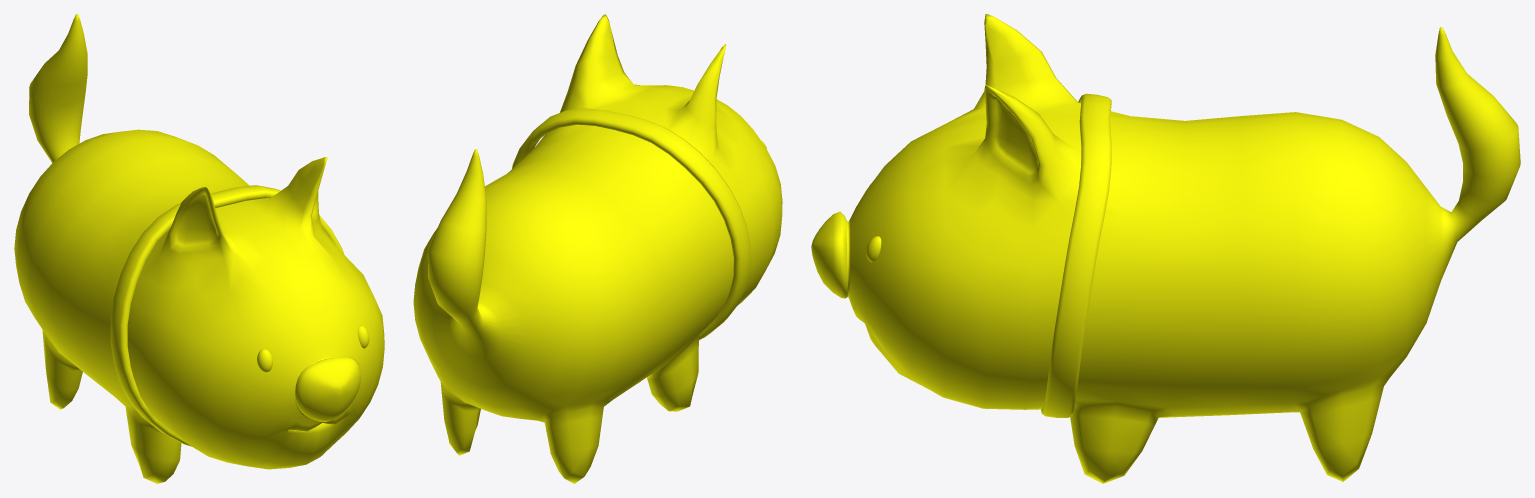
Rendered from Dog.glb.
The picture shows the model from 3 angles, left to right: view 1: azimuth 30°, elevation 25°; view 2: azimuth 150°, elevation 25°; view 3: azimuth 270°, elevation 25°; orthographic projection. The views are drawn at different scales.
Parts seen in each view (by area): view 1: dog; view 2: dog; view 3: dog.
Boxes of the visible parts, x1=… form: dog: x1=14, y1=14, x2=384, y2=483; dog: x1=413, y1=14, x2=782, y2=483; dog: x1=811, y1=14, x2=1520, y2=483.
Size of the model in its own units: 1.56 by 2.23 by 3.41.
1 material, 1 textured.
